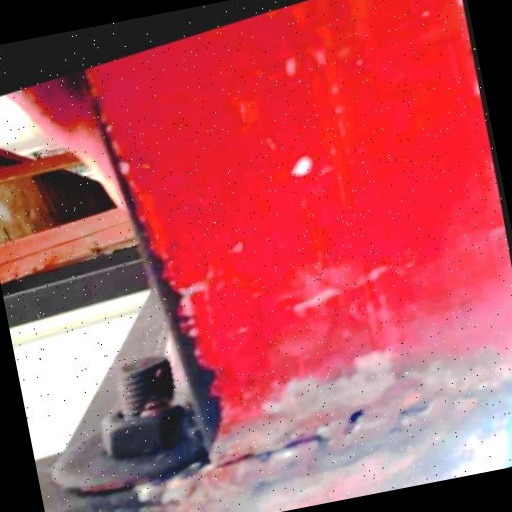crack: (197, 356, 512, 512)
